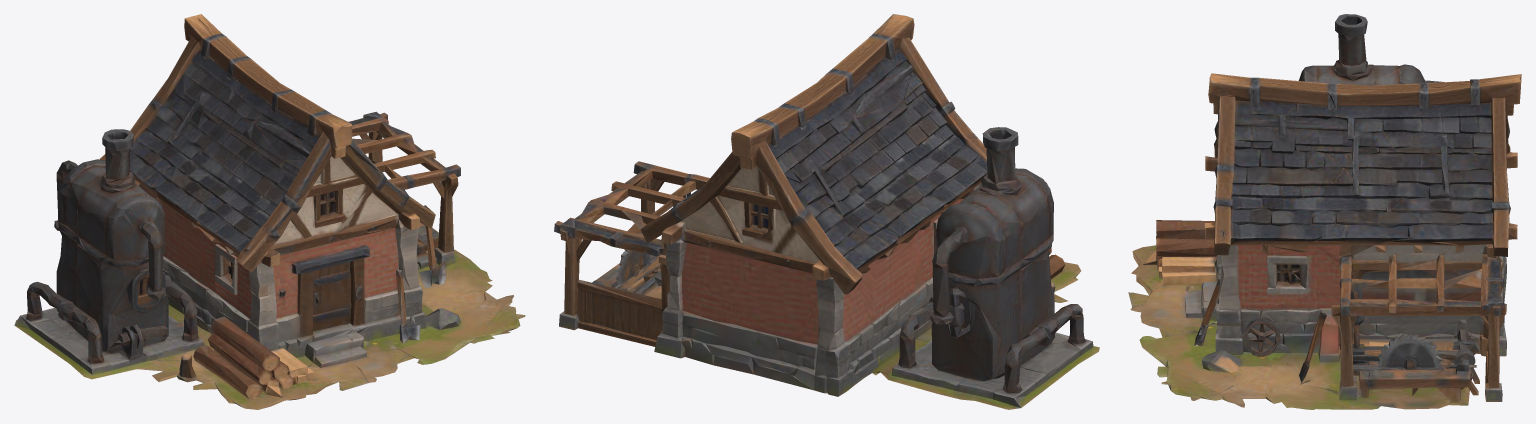
The model's file is lumbercamp.glb.
3 renders of one model, left to right at view 1: azimuth 30°, elevation 25°; view 2: azimuth 150°, elevation 25°; view 3: azimuth 270°, elevation 25°, orthographic. The views are drawn at different scales.
Bounding box in the file's own units: 1.89 × 1.01 × 1.52.
Materials: 1 (1 with a texture image).
